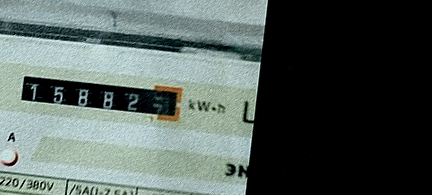1: (27, 81, 38, 100)
2: (125, 91, 139, 112)
5: (48, 84, 65, 104)
7: (149, 100, 162, 114)
8: (99, 88, 114, 110), (75, 86, 89, 107)
screen: (14, 67, 186, 126)
